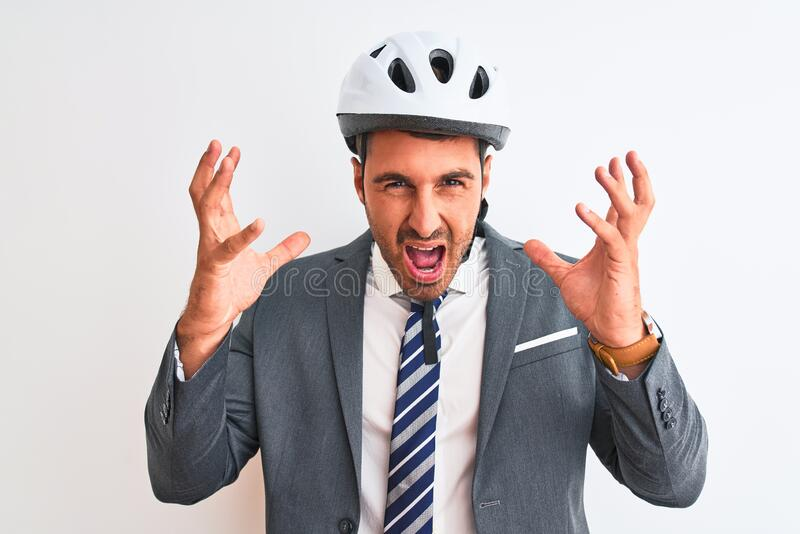helmet: (335, 30, 511, 302)
